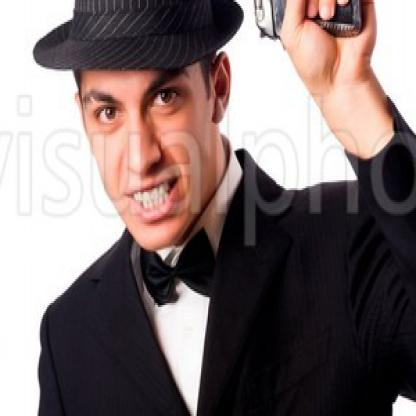gun: (233, 0, 372, 52)
